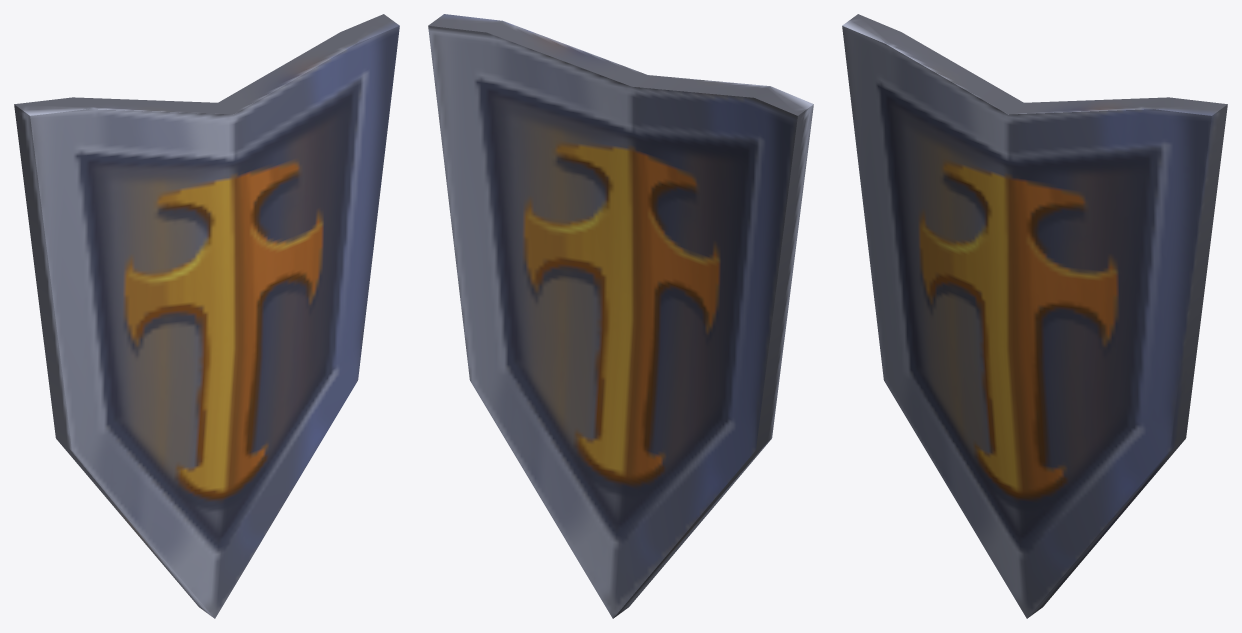
The model's file is zhucheng_dunpai_2.FBX.
3 views of the same model, side by side, from view 1: azimuth 30°, elevation 25°; view 2: azimuth 150°, elevation 25°; view 3: azimuth 330°, elevation 25° (orthographic).
Visible parts, largest first — view 1: zhucheng_dunpai_2; view 2: zhucheng_dunpai_2; view 3: zhucheng_dunpai_2.
Boxes of the visible parts, x1,y1,x2,y2 form: zhucheng_dunpai_2: (14,14,399,618); zhucheng_dunpai_2: (428,14,813,618); zhucheng_dunpai_2: (842,14,1227,618).
Size of the model in its own units: 94.84 by 134 by 15.76.
